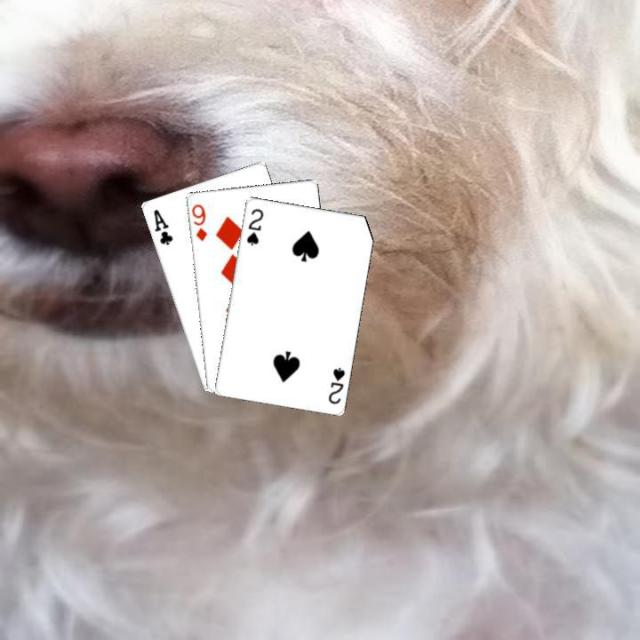2S: (243, 205, 265, 247), (324, 363, 346, 405)
9D: (188, 200, 209, 243)
AC: (150, 206, 174, 247)
